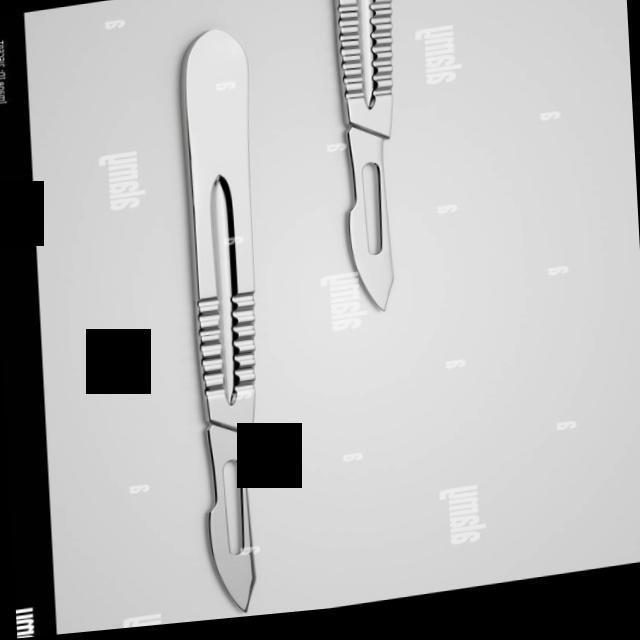Knife handle: (172, 18, 274, 557)
Surgical blade: (328, 126, 418, 335), (189, 418, 270, 626)
